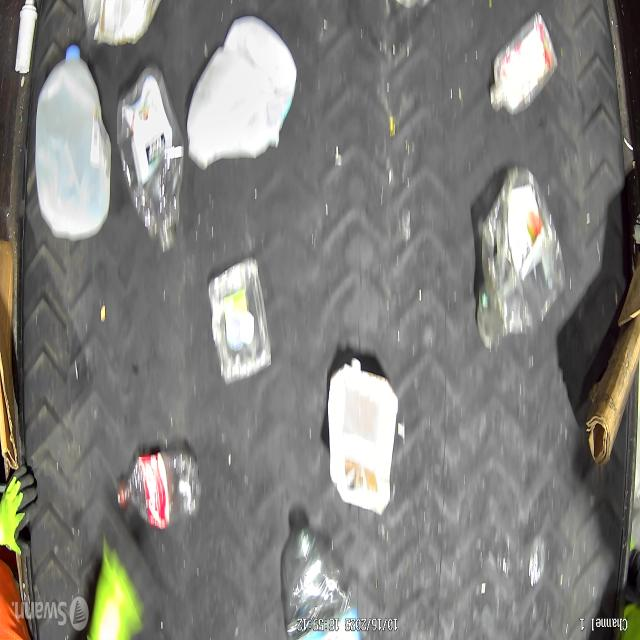milk_jug: (187, 14, 296, 170), (34, 46, 110, 241), (327, 359, 399, 514)
plastic_bottle: (474, 167, 566, 349), (116, 68, 183, 251), (288, 529, 359, 640), (489, 13, 558, 115), (116, 452, 202, 528)
